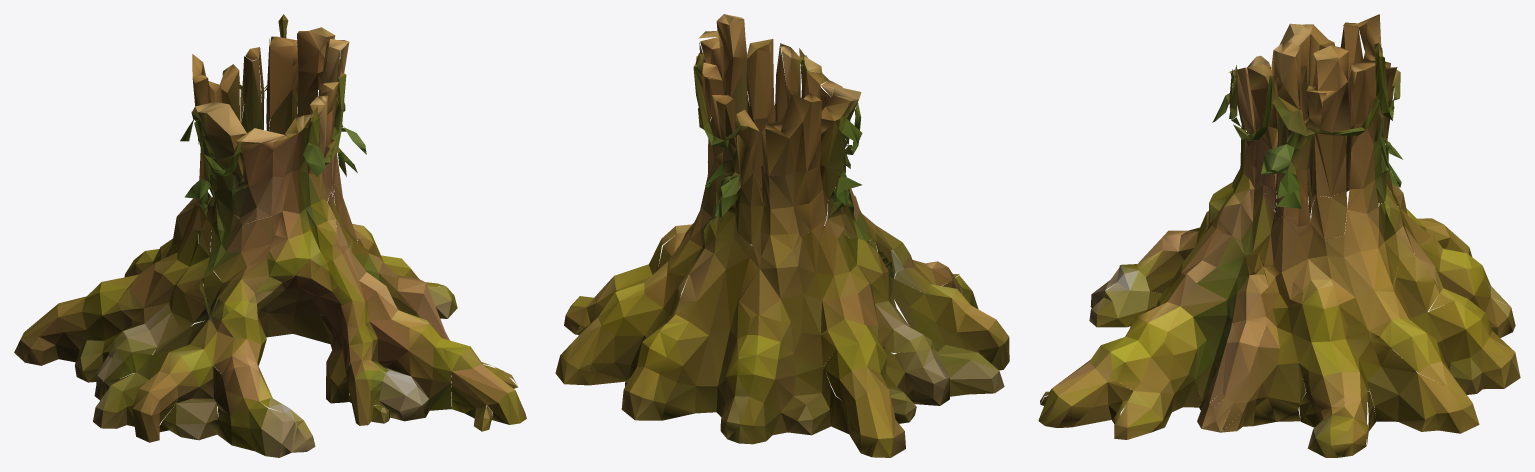
File: land-hollowTree.glb
3 renders of one model, left to right at view 1: azimuth 30°, elevation 25°; view 2: azimuth 150°, elevation 25°; view 3: azimuth 270°, elevation 25°, orthographic. The views are drawn at different scales.
Parts seen in each view (by area): view 1: 0_hollowTree; view 2: 0_hollowTree; view 3: 0_hollowTree.
Boxes of the visible parts, bbox=[...] form: 0_hollowTree: bbox=[14, 14, 526, 457]; 0_hollowTree: bbox=[555, 14, 1009, 457]; 0_hollowTree: bbox=[1038, 14, 1520, 457].
Bounding box in the file's own units: 4.5 × 3.48 × 4.46.
